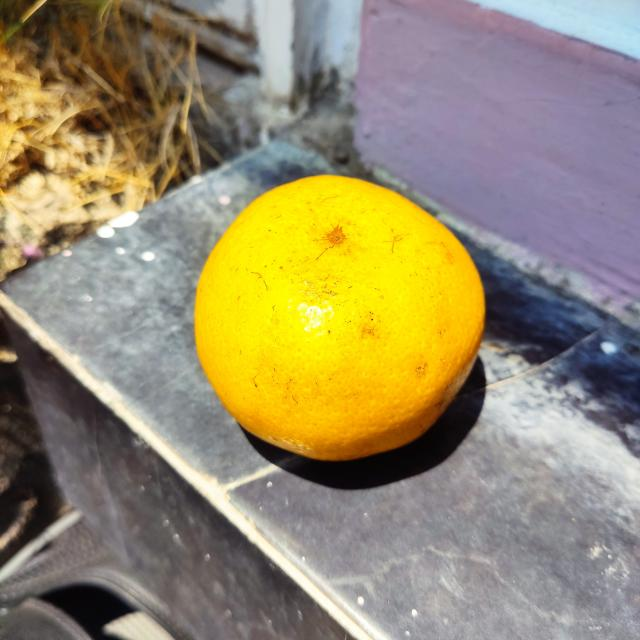orange: (190, 172, 484, 463)
